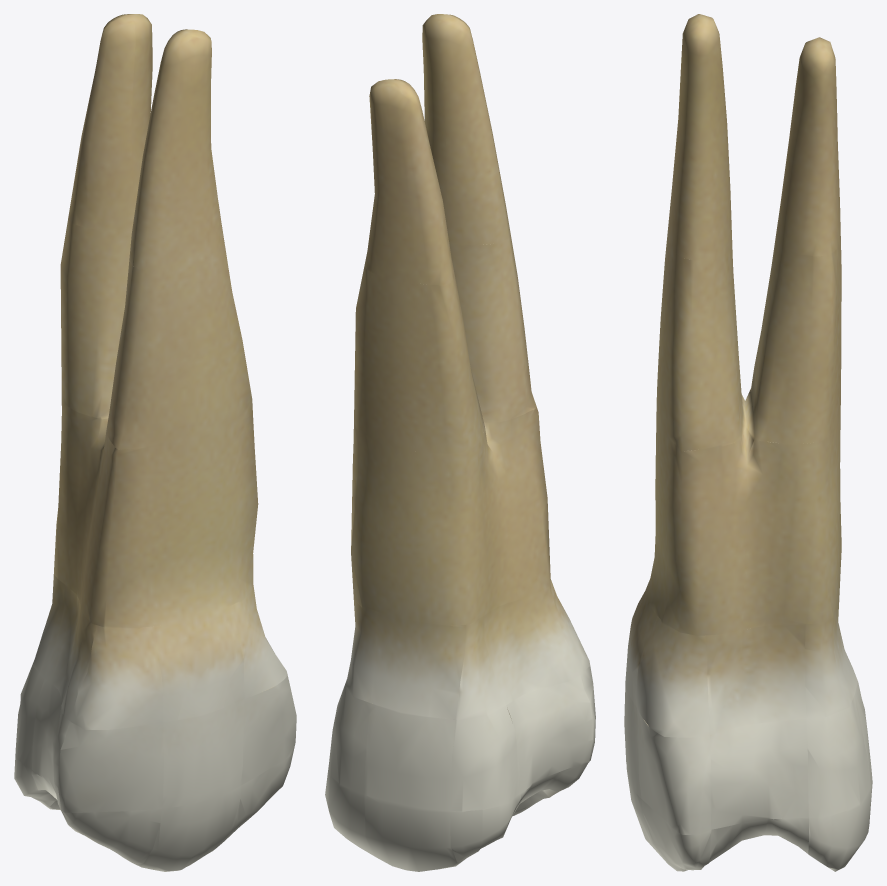
The model's file is Left_Upper_First_Premolar.glb.
3 views of the same model, side by side, from view 1: azimuth 30°, elevation 25°; view 2: azimuth 150°, elevation 25°; view 3: azimuth 270°, elevation 25° (orthographic). The views are drawn at different scales.
Parts seen in each view (by area): view 1: Human_Teeth_Upper_First_Premolar_Geo.029; view 2: Human_Teeth_Upper_First_Premolar_Geo.029; view 3: Human_Teeth_Upper_First_Premolar_Geo.029.
Part boxes in pixels (x1=…): Human_Teeth_Upper_First_Premolar_Geo.029: x1=14, y1=14, x2=296, y2=871; Human_Teeth_Upper_First_Premolar_Geo.029: x1=325, y1=14, x2=595, y2=871; Human_Teeth_Upper_First_Premolar_Geo.029: x1=624, y1=14, x2=872, y2=871.
Size of the model in its own units: 0.9482 by 3.14 by 0.8242.
30 materials, 30 textured.
